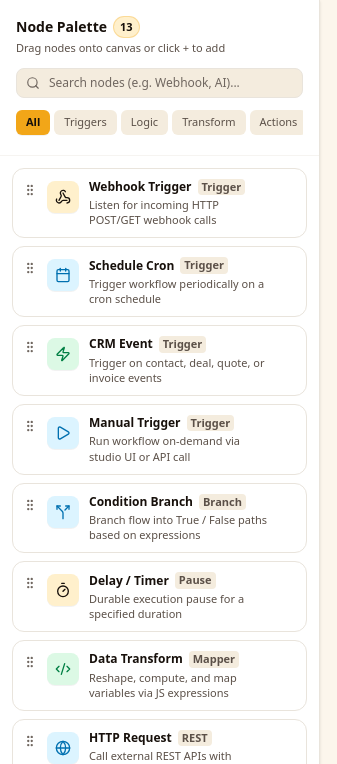
Test: Automation Node Components › NodePaletteDrawer › shows empty state when no items match search query
The width and height of the screenshot is (337, 764).
In the field with test id "node-palette-search": (160, 83) [16,68,303,98], type "nonexistent-query-xyz"
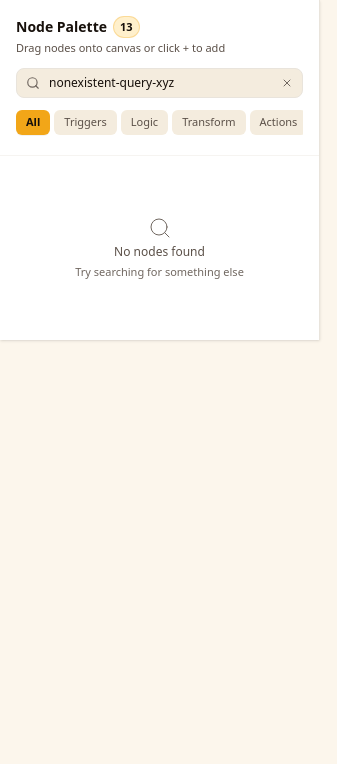
Expected: the text "No nodes found" is shown, [114,243,205,260]
